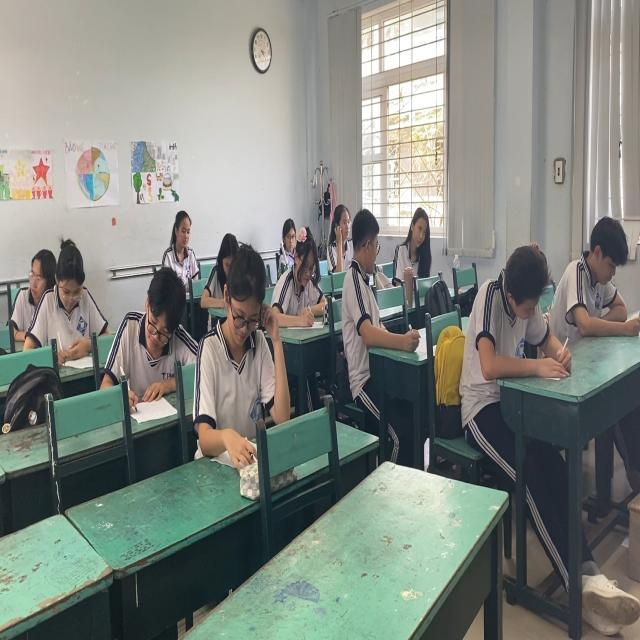cheating: (351, 204, 394, 348), (22, 231, 55, 317)
not_cheating: (208, 252, 292, 452), (455, 228, 564, 370), (572, 193, 640, 328), (121, 270, 191, 400), (46, 231, 107, 356), (279, 217, 331, 338), (156, 208, 201, 294), (392, 196, 436, 280), (322, 200, 352, 272)
